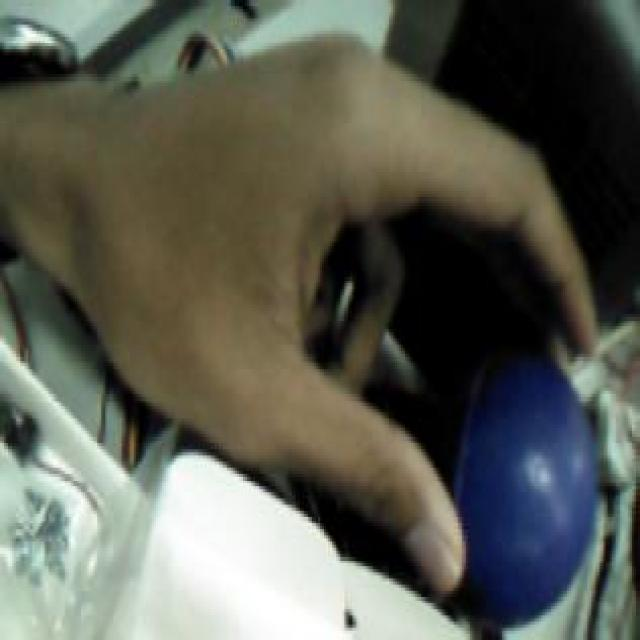BallPurple: (429, 348, 596, 623)
